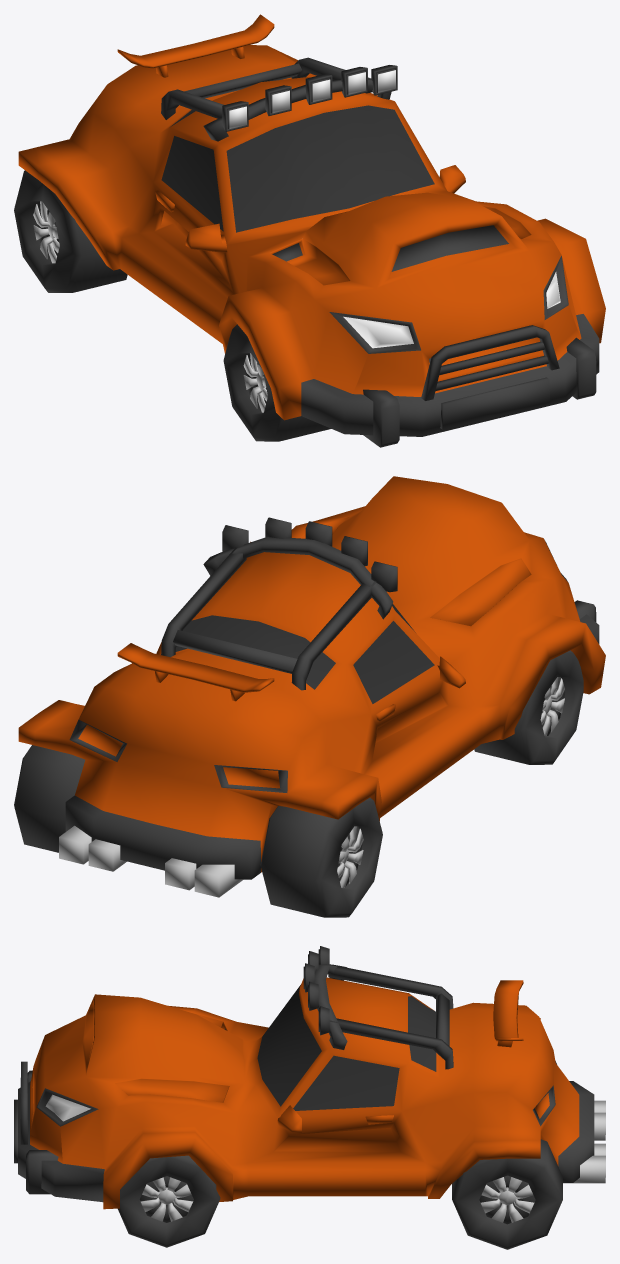
File: audi_a6_2024.glb
The picture shows the model from 3 angles, top to bottom: view 1: azimuth 30°, elevation 25°; view 2: azimuth 150°, elevation 25°; view 3: azimuth 270°, elevation 25°; orthographic projection. The views are drawn at different scales.
Visible parts, largest first — view 1: Cube, Generic_8, Generic_6, Generic_7, Generic_2, Generic_4, Generic_3, Cube_7, Cube_5, Cube_3, Cube_4, Generic_10 (+4 smaller); view 2: Cube, Generic_8, Generic_7, Cube_7, Generic_9, Generic_3, Generic_1, Generic_10, Generic, Cube_4, Cube_3, Cube_9 (+1 smaller); view 3: Cube, Generic_8, Generic_7, Cube_7, Generic_3, Cube_9, Cube_8, Generic_9, Generic_4, Generic_1, Cube_6, Cube_1 (+6 smaller).
Part boxes in pixels (<box>): Cube: <box>18,45,605,436</box>; Generic_8: <box>14,170,127,292</box>; Generic_6: <box>421,325,559,400</box>; Generic_7: <box>223,324,331,441</box>; Generic_2: <box>440,377,550,429</box>; Generic_4: <box>363,337,596,447</box>; Generic_3: <box>117,14,274,77</box>; Cube_7: <box>161,57,372,119</box>; Cube_5: <box>185,165,465,252</box>; Cube_3: <box>265,67,367,115</box>; Cube_4: <box>222,65,397,131</box>; Generic_10: <box>184,63,301,98</box>; Cube: <box>18,476,605,879</box>; Generic_8: <box>14,745,382,917</box>; Generic_7: <box>474,650,583,764</box>; Cube_7: <box>161,547,376,690</box>; Generic_9: <box>203,537,393,619</box>; Generic_3: <box>117,643,274,701</box>; Generic_1: <box>59,825,242,897</box>; Generic_10: <box>173,630,297,673</box>; Generic: <box>88,839,196,890</box>; Cube_4: <box>222,525,397,592</box>; Cube_3: <box>265,517,367,566</box>; Cube_9: <box>337,826,363,887</box>; Cube: <box>18,977,594,1209</box>; Generic_8: <box>452,1061,562,1249</box>; Generic_7: <box>118,1155,220,1247</box>; Cube_7: <box>328,964,453,1069</box>; Generic_3: <box>493,980,523,1047</box>; Cube_9: <box>481,1177,534,1222</box>; Cube_8: <box>140,1177,193,1221</box>; Generic_9: <box>314,964,347,1049</box>; Generic_4: <box>26,1070,58,1194</box>; Generic_1: <box>563,1100,605,1183</box>; Cube_6: <box>479,1175,535,1224</box>; Cube_1: <box>139,1176,193,1222</box>.
Size of the model in its own units: 3.96 by 3.01 by 7.31.
